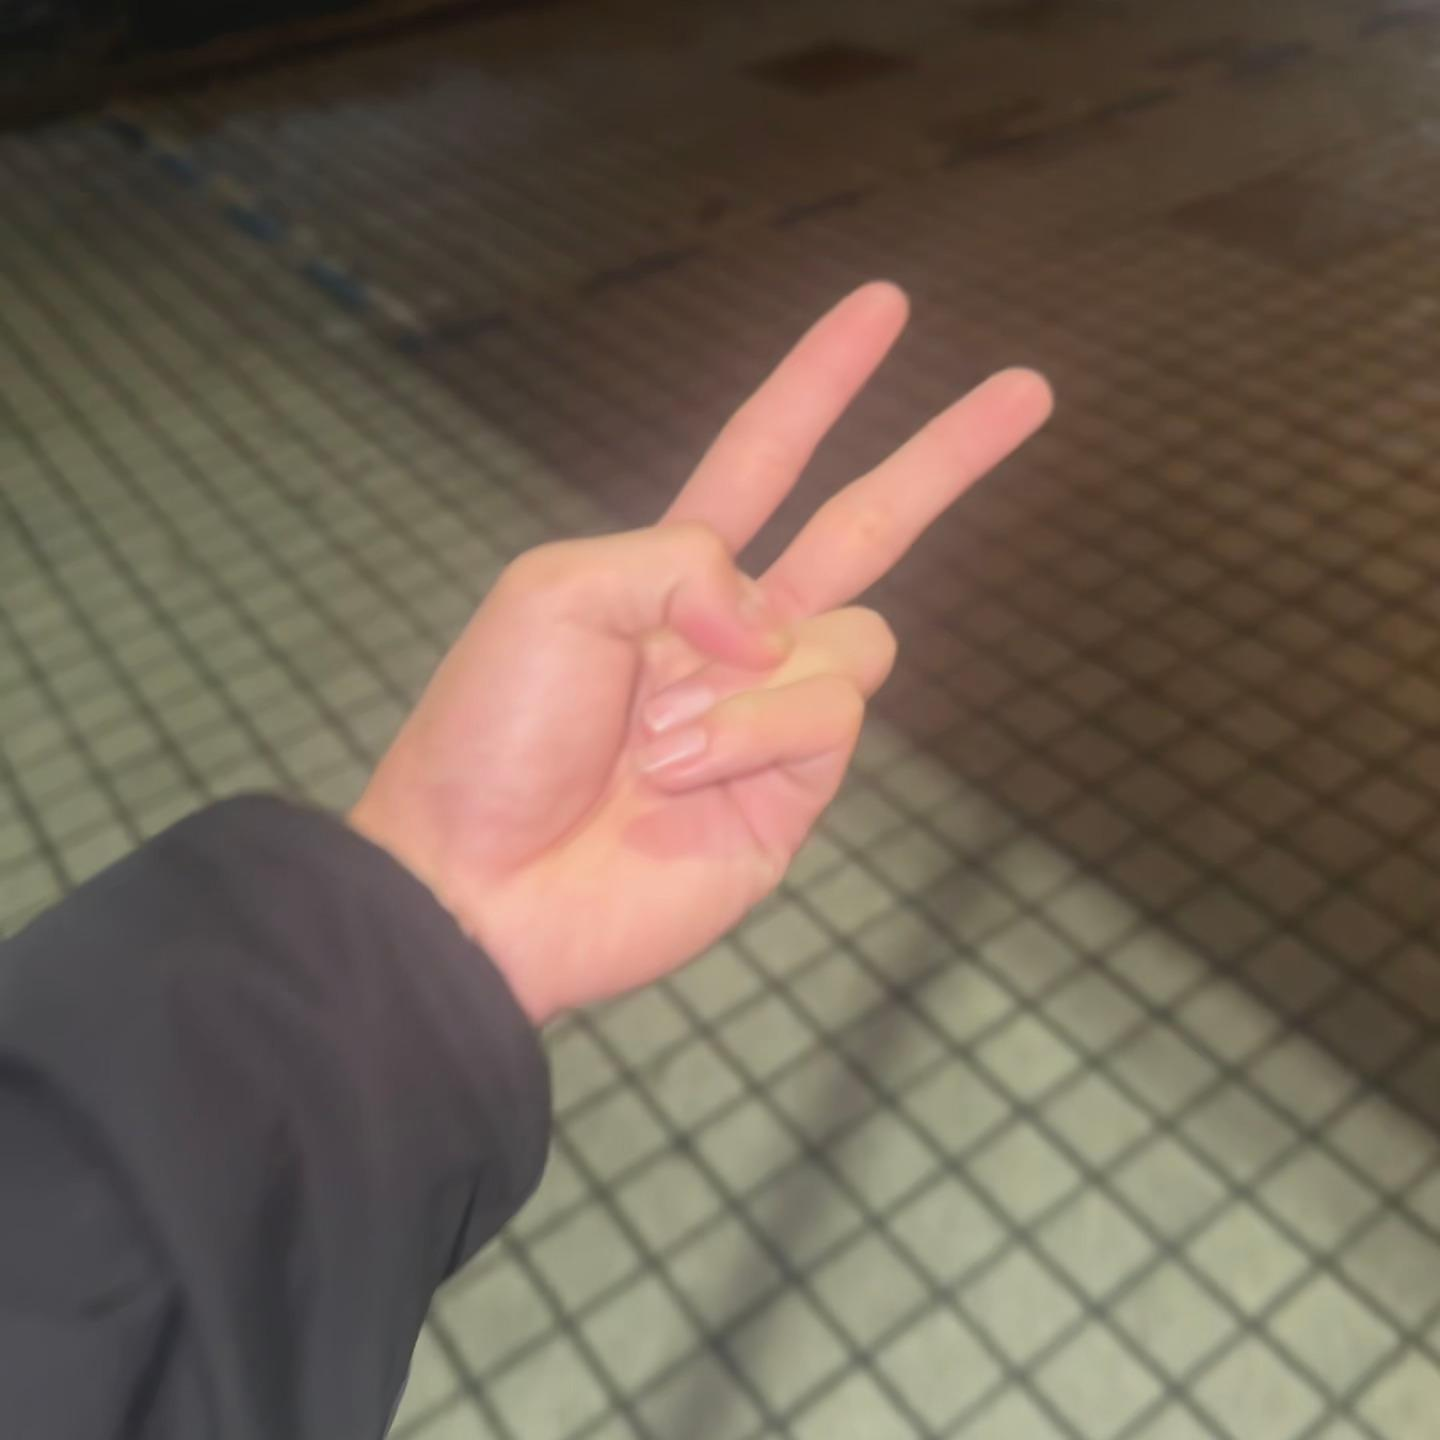without_gloves: (418, 170, 1209, 988)
